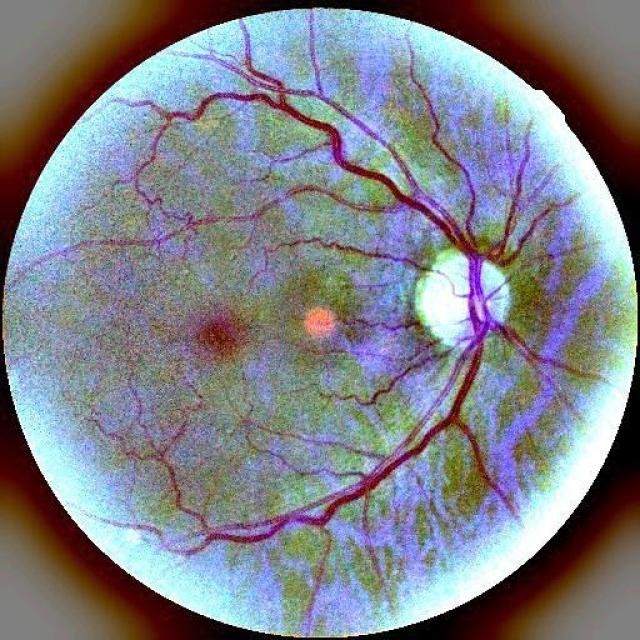Macula: (199, 321, 236, 354)
Optic Disk: (415, 248, 508, 349)
